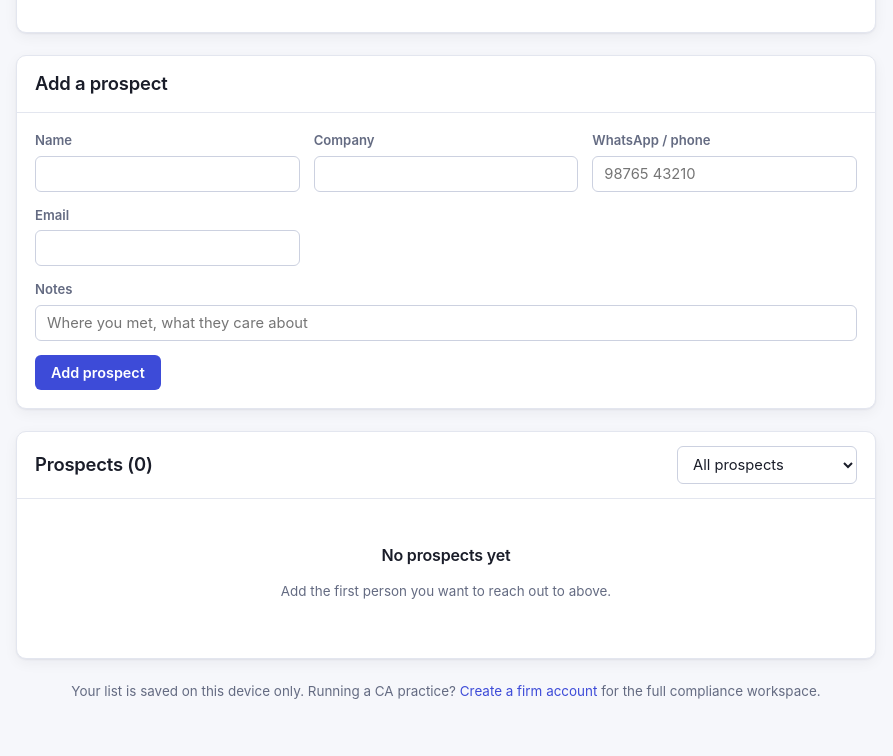
Test case: the free outreach workspace › refuses a prospect without a name
The width and height of the screenshot is (893, 756).
(page scrolled)
Click the button "Add prospect" at point(98, 373), box [35,355,161,390]
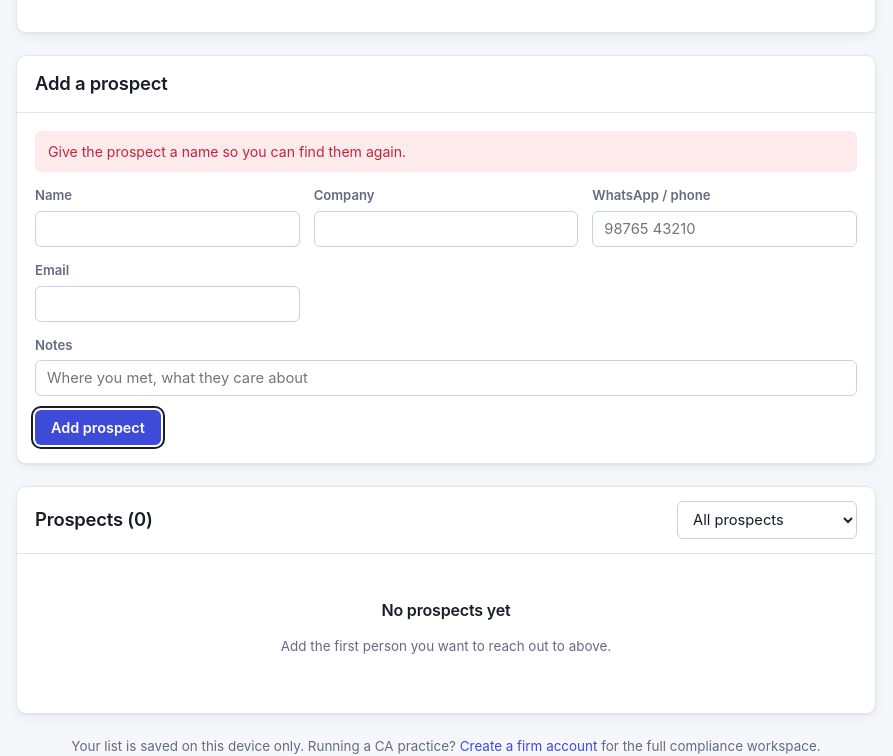
Check: the message shows "Give the prospect a name", box [48,143,406,160]
